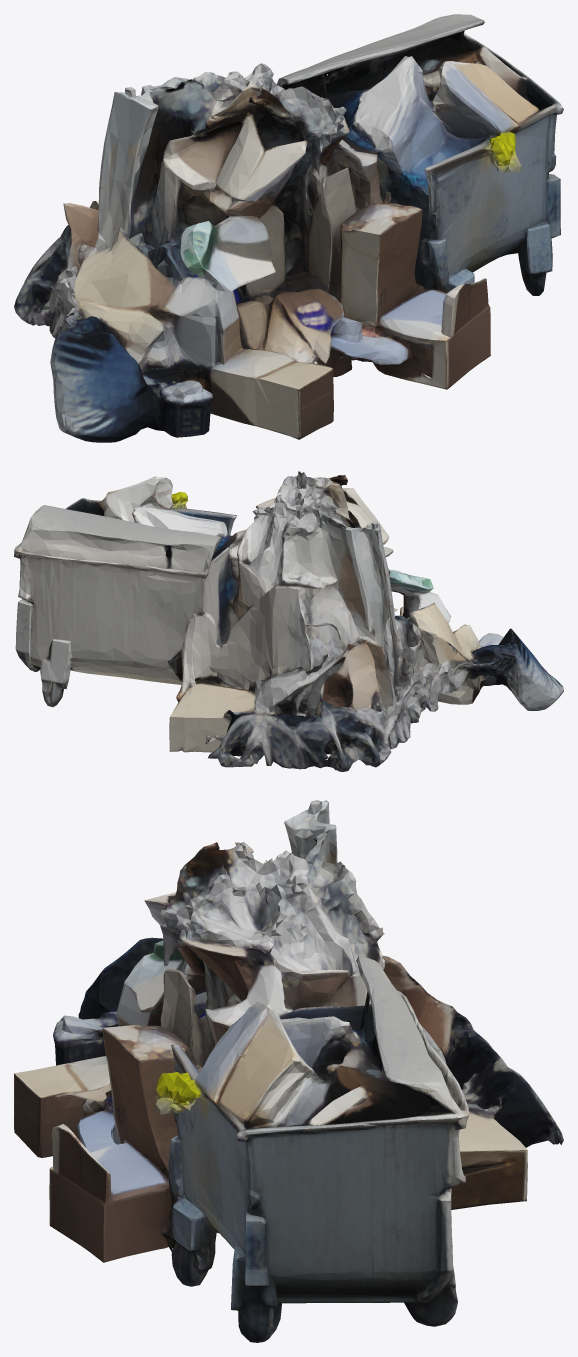
File: Garbage_2.fbx
The picture shows the model from 3 angles, top to bottom: view 1: azimuth 30°, elevation 25°; view 2: azimuth 150°, elevation 25°; view 3: azimuth 270°, elevation 25°; orthographic projection. The views are drawn at different scales.
Parts seen in each view (by area): view 1: world.005; view 2: world.005; view 3: world.005.
Part boxes in pixels (x1,y1,x2,y2): world.005: [14, 14, 563, 442]; world.005: [14, 471, 563, 771]; world.005: [14, 800, 563, 1342].
Size of the model in its own units: 99.58 by 51.04 by 74.37.
